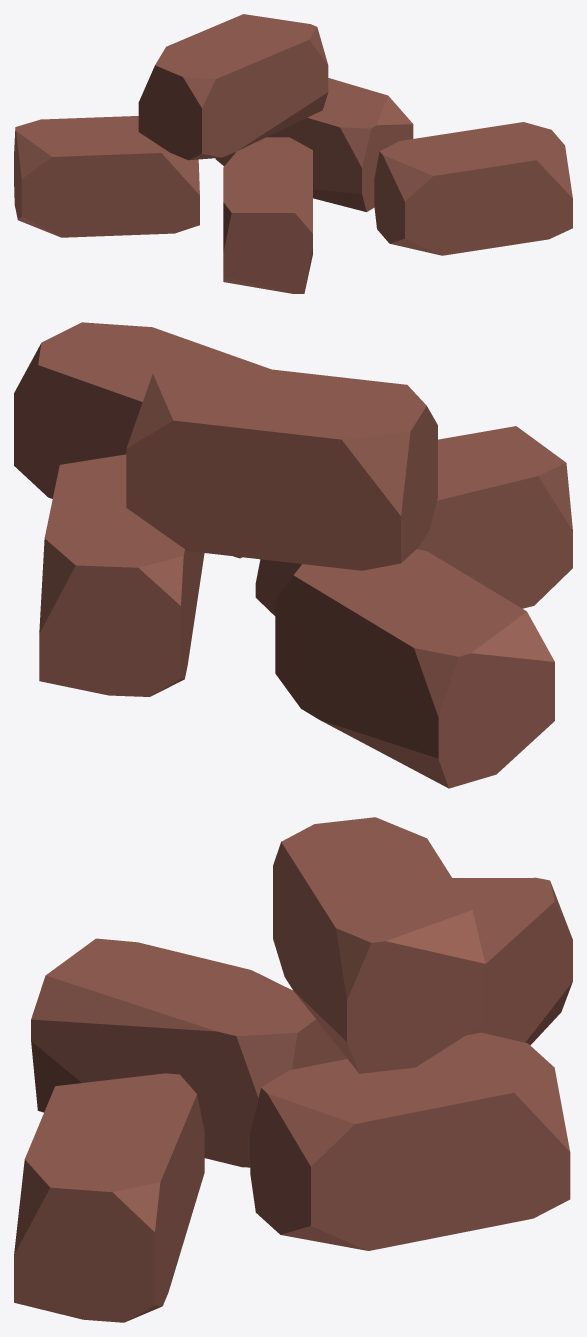
File: Brick_B_10.FBX
The picture shows the model from 3 angles, top to bottom: view 1: azimuth 30°, elevation 25°; view 2: azimuth 150°, elevation 25°; view 3: azimuth 270°, elevation 25°; orthographic projection. The views are drawn at different scales.
Visible parts, largest first — view 1: Brick_B_10; view 2: Brick_B_10; view 3: Brick_B_10.
Part boxes in pixels (x1,y1,x2,y2): Brick_B_10: [14, 14, 572, 293]; Brick_B_10: [14, 322, 572, 788]; Brick_B_10: [14, 817, 572, 1322].
Bounding box in the file's own units: 3.15 × 1.13 × 2.22.
